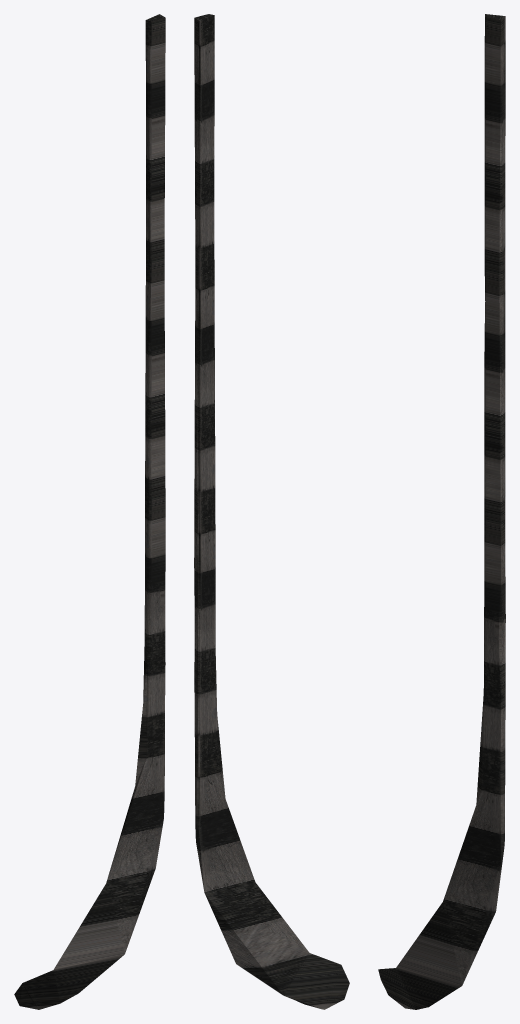
The picture shows the model from 3 angles, left to right: view 1: azimuth 30°, elevation 25°; view 2: azimuth 210°, elevation 25°; view 3: azimuth 330°, elevation 25°; orthographic projection. The views are drawn at different scales.
Visible parts, largest first — view 1: geometry_0; view 2: geometry_0; view 3: geometry_0.
Boxes of the visible parts, x1=… form: geometry_0: x1=14, y1=14, x2=165, y2=1009; geometry_0: x1=194, y1=14, x2=349, y2=1009; geometry_0: x1=378, y1=14, x2=505, y2=1009.
Bounding box in the file's own units: 236 × 1650 × 60.4.
1 material, 1 textured.
